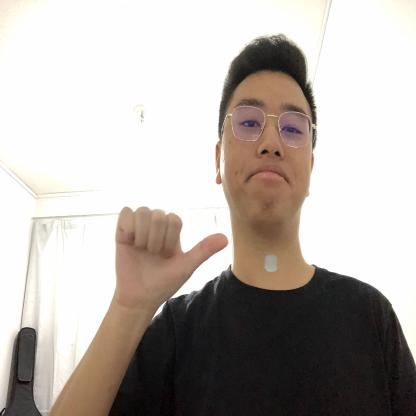left: (113, 205, 229, 305)
